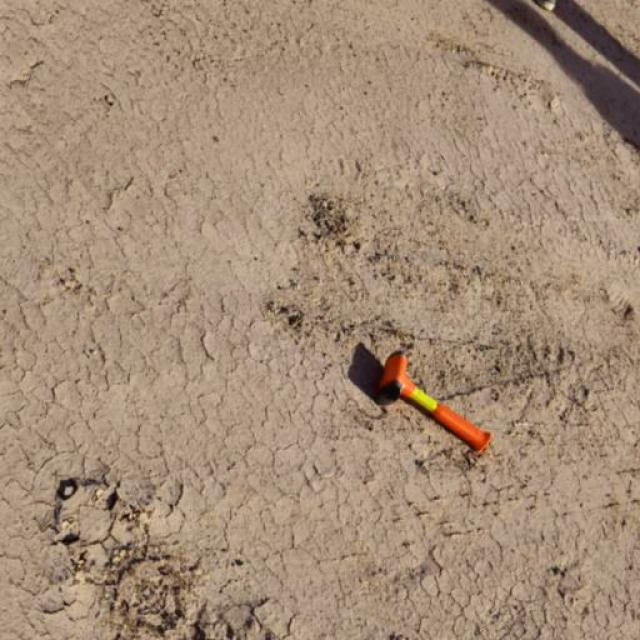mallet: (375, 349, 493, 456)
